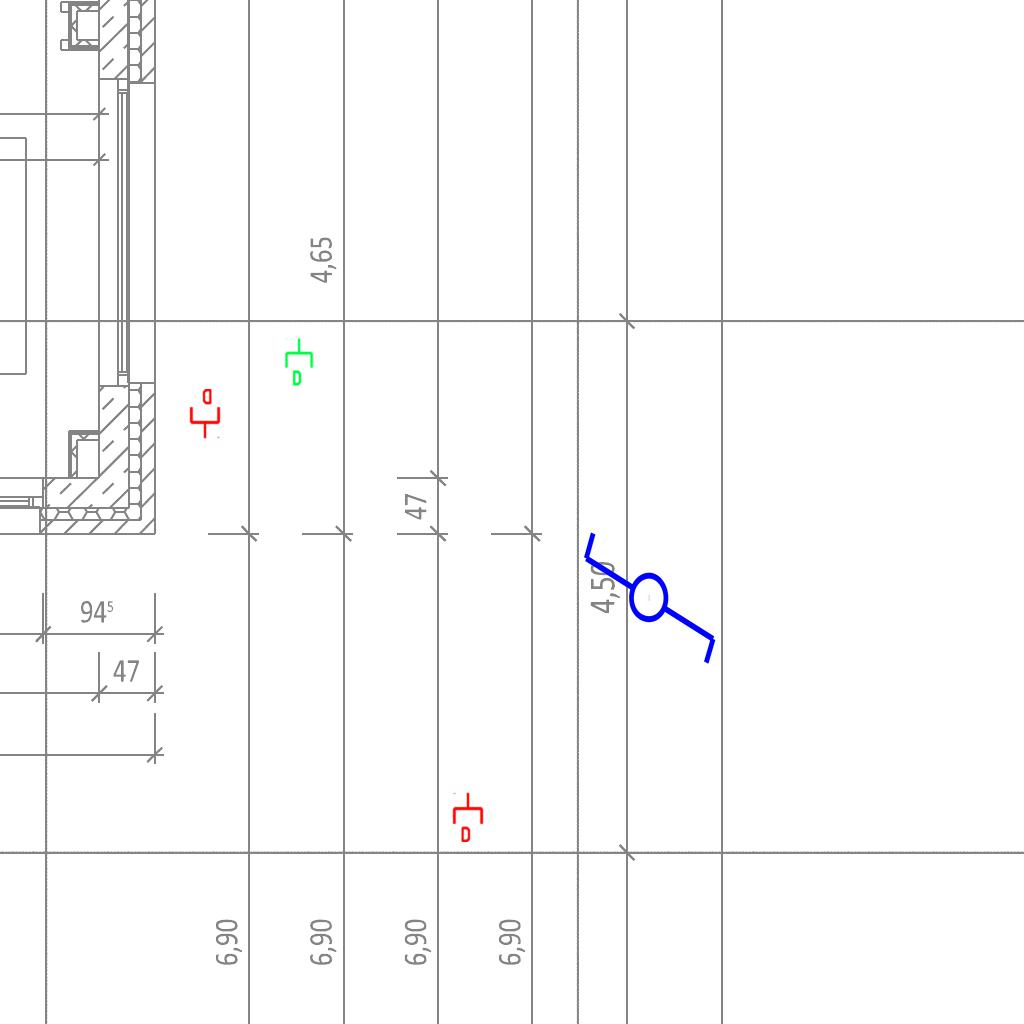Datenanschluss_einfach: (188, 389, 222, 439), (283, 337, 317, 387), (451, 792, 485, 842)
Wechselschalter: (579, 511, 723, 668)
